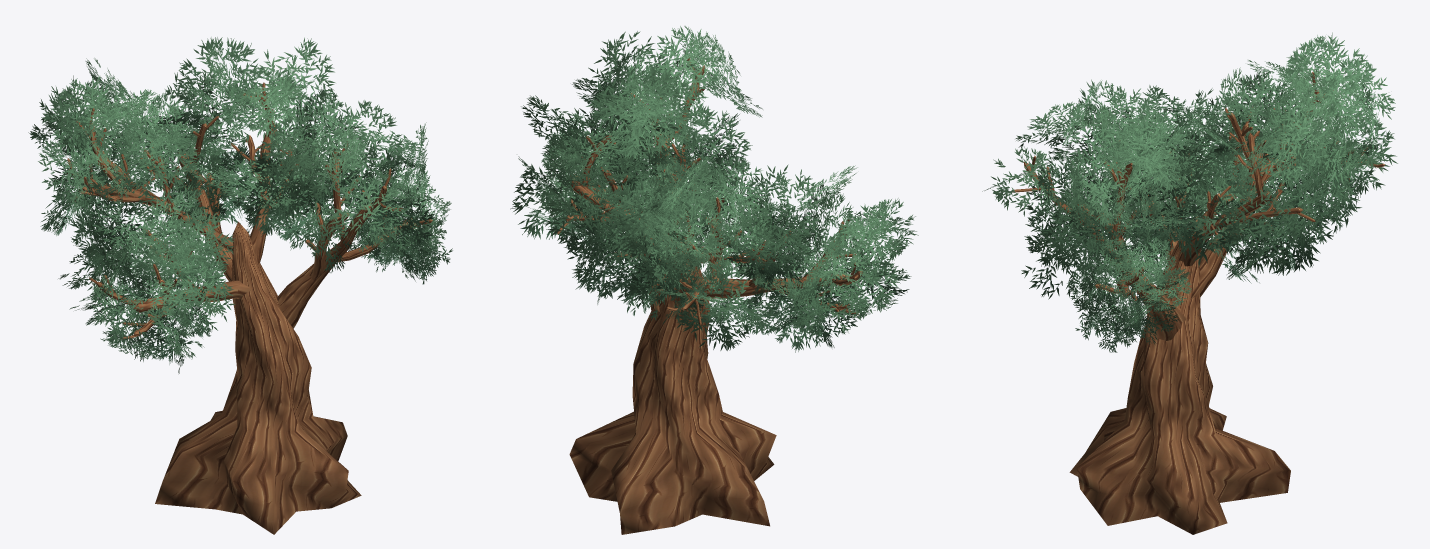
The model's file is ct_lance_2.gltf.
3 views of the same model, side by side, from view 1: azimuth 30°, elevation 25°; view 2: azimuth 150°, elevation 25°; view 3: azimuth 270°, elevation 25° (orthographic). The views are drawn at different scales.
Parts seen in each view (by area): view 1: ct_lance_2_leaves_LOD0, ct_lance_2_trunk_LOD0; view 2: ct_lance_2_leaves_LOD0, ct_lance_2_trunk_LOD0; view 3: ct_lance_2_leaves_LOD0, ct_lance_2_trunk_LOD0.
Part boxes in pixels (x1,y1,x2,y2): ct_lance_2_leaves_LOD0: [28, 37, 452, 373]; ct_lance_2_trunk_LOD0: [66, 82, 432, 534]; ct_lance_2_leaves_LOD0: [510, 26, 918, 352]; ct_lance_2_trunk_LOD0: [557, 58, 862, 534]; ct_lance_2_leaves_LOD0: [982, 32, 1397, 352]; ct_lance_2_trunk_LOD0: [1012, 72, 1384, 534].
Size of what is drawn, in the model's own units: 8.86 by 9.61 by 9.01.
Materials: 2 (2 with a texture image).
